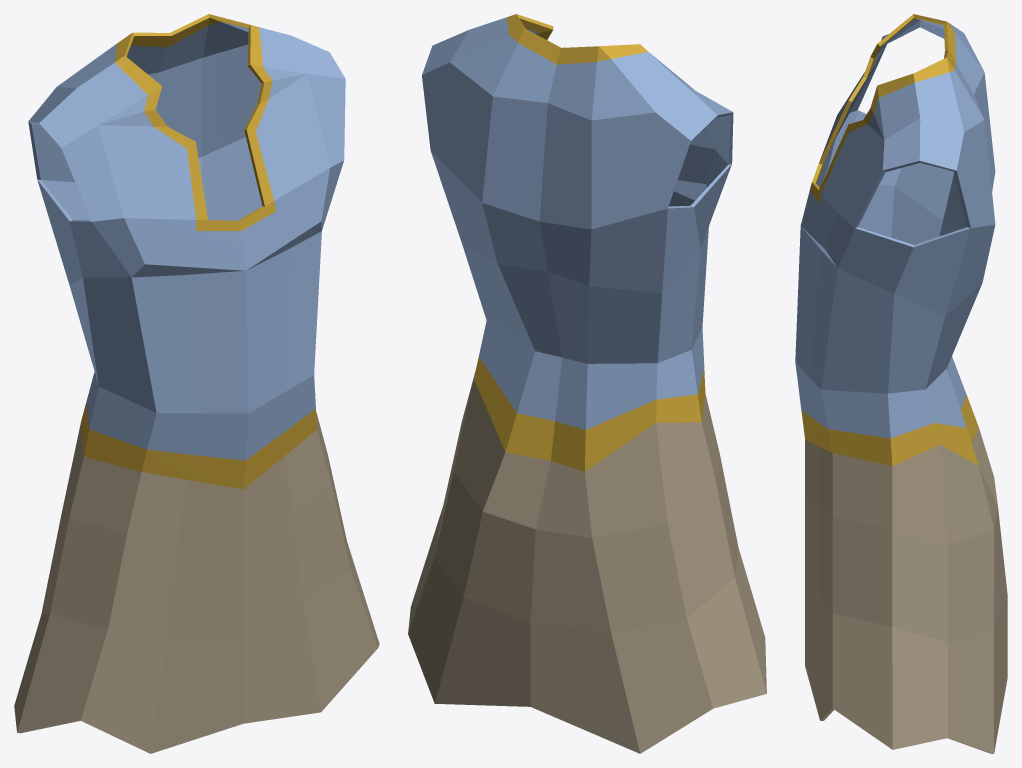
Rendered from Mcitizen_Chest.fbx.
3 views of the same model, side by side, from view 1: azimuth 30°, elevation 25°; view 2: azimuth 150°, elevation 25°; view 3: azimuth 270°, elevation 25° (orthographic). The views are drawn at different scales.
Parts seen in each view (by area): view 1: M Citizen; view 2: M Citizen; view 3: M Citizen.
Boxes of the visible parts, bbox=[...] form: M Citizen: bbox=[14, 14, 379, 753]; M Citizen: bbox=[408, 14, 766, 753]; M Citizen: bbox=[795, 14, 1007, 753].
Bounding box in the file's own units: 103 × 186 × 53.81.
1 material, 1 textured.
